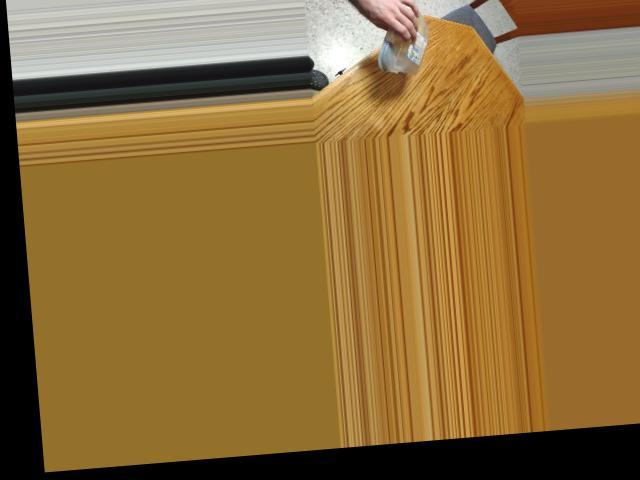cheese: (381, 14, 427, 69)
